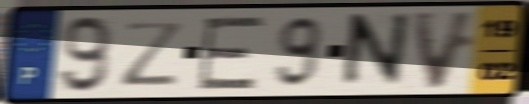9: (58, 14, 113, 95), (272, 14, 326, 90)
E: (194, 14, 269, 92)
N: (336, 10, 414, 92)
V: (408, 9, 481, 93)
Z: (121, 19, 189, 88)
